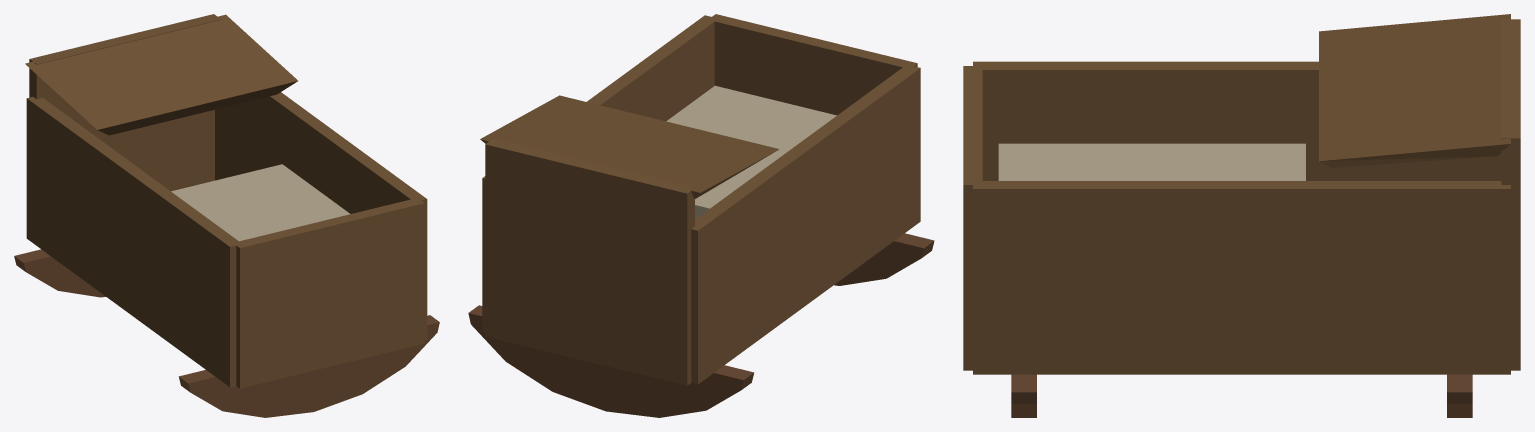
File: Cradle.fbx
3 renders of one model, left to right at view 1: azimuth 30°, elevation 25°; view 2: azimuth 150°, elevation 25°; view 3: azimuth 270°, elevation 25°, orthographic. The views are drawn at different scales.
Parts seen in each view (by area): view 1: Cradle; view 2: Cradle; view 3: Cradle.
Part boxes in pixels (bbox=[...]): Cradle: bbox=[14, 14, 439, 417]; Cradle: bbox=[468, 14, 934, 417]; Cradle: bbox=[963, 14, 1520, 417].
Bounding box in the file's own units: 0.6 × 0.535 × 0.87.
